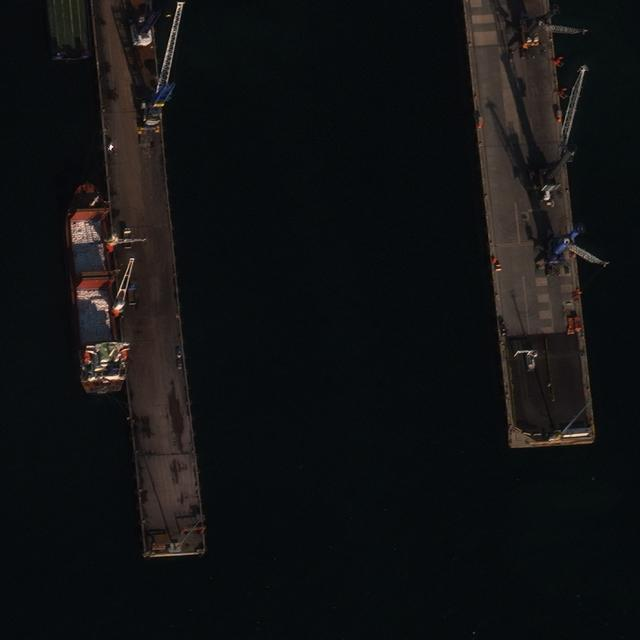Container Ship: (63, 179, 126, 397)
